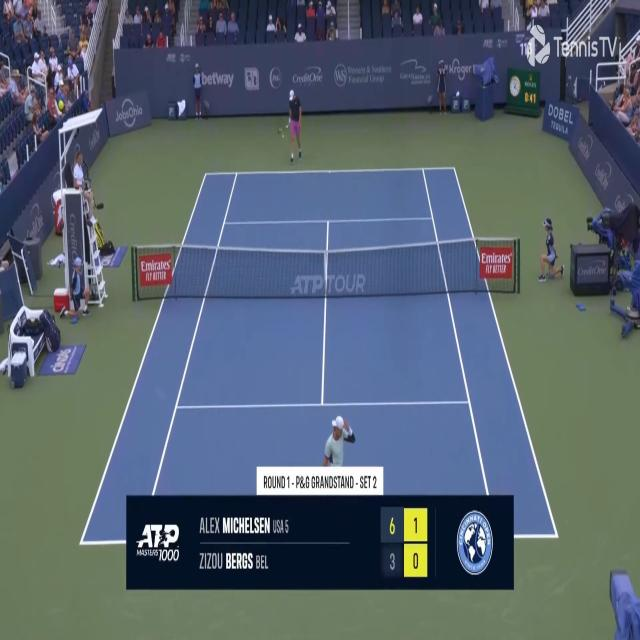tennis-player: (318, 412, 356, 492), (276, 86, 306, 165)
